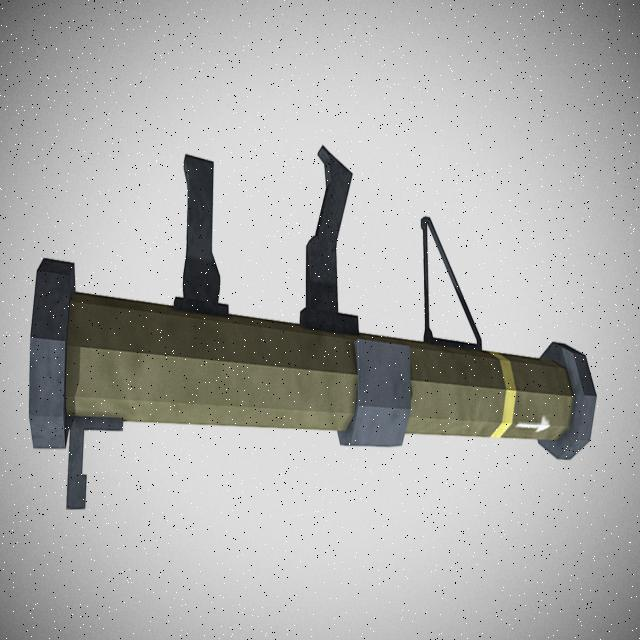bazooka: (24, 149, 617, 522)
